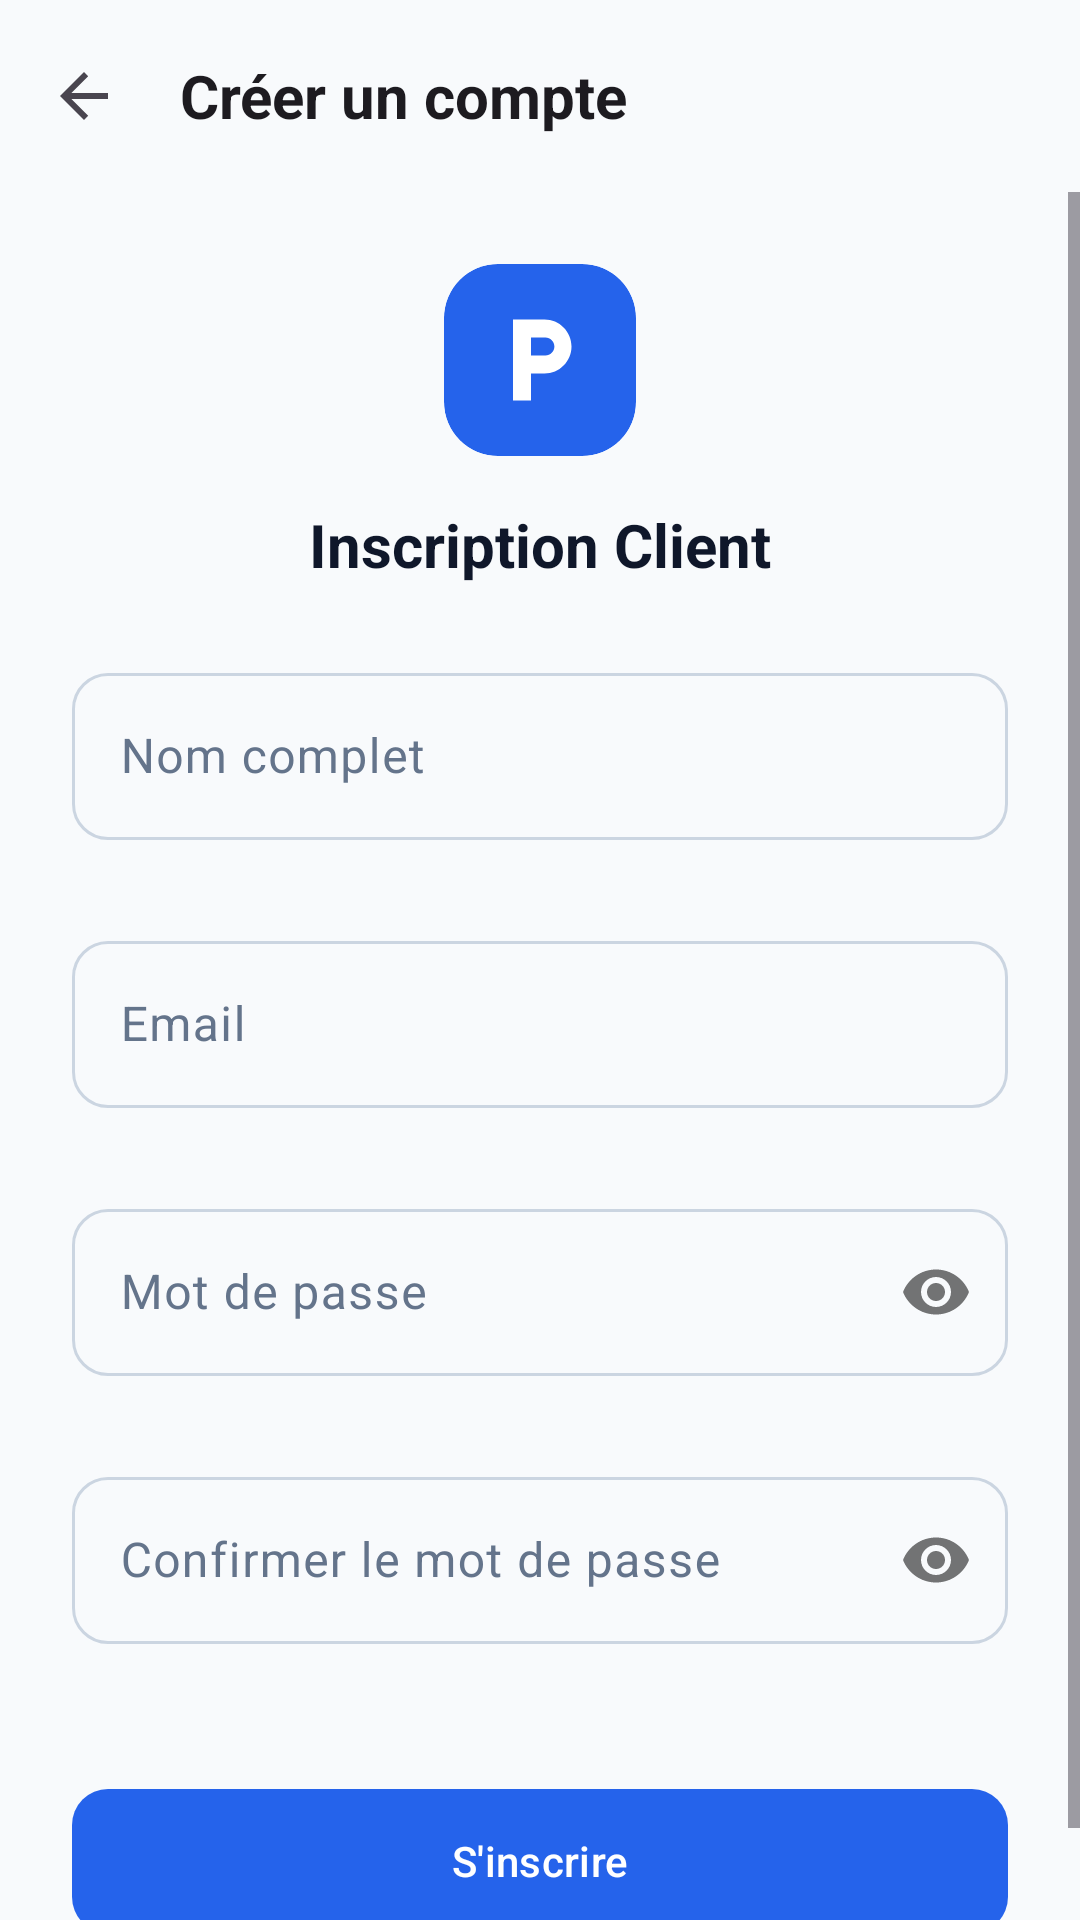

Screen size 1080px x 1920px. Icon name, then its center in pixels as (x,y):
local parking: (542,360)
